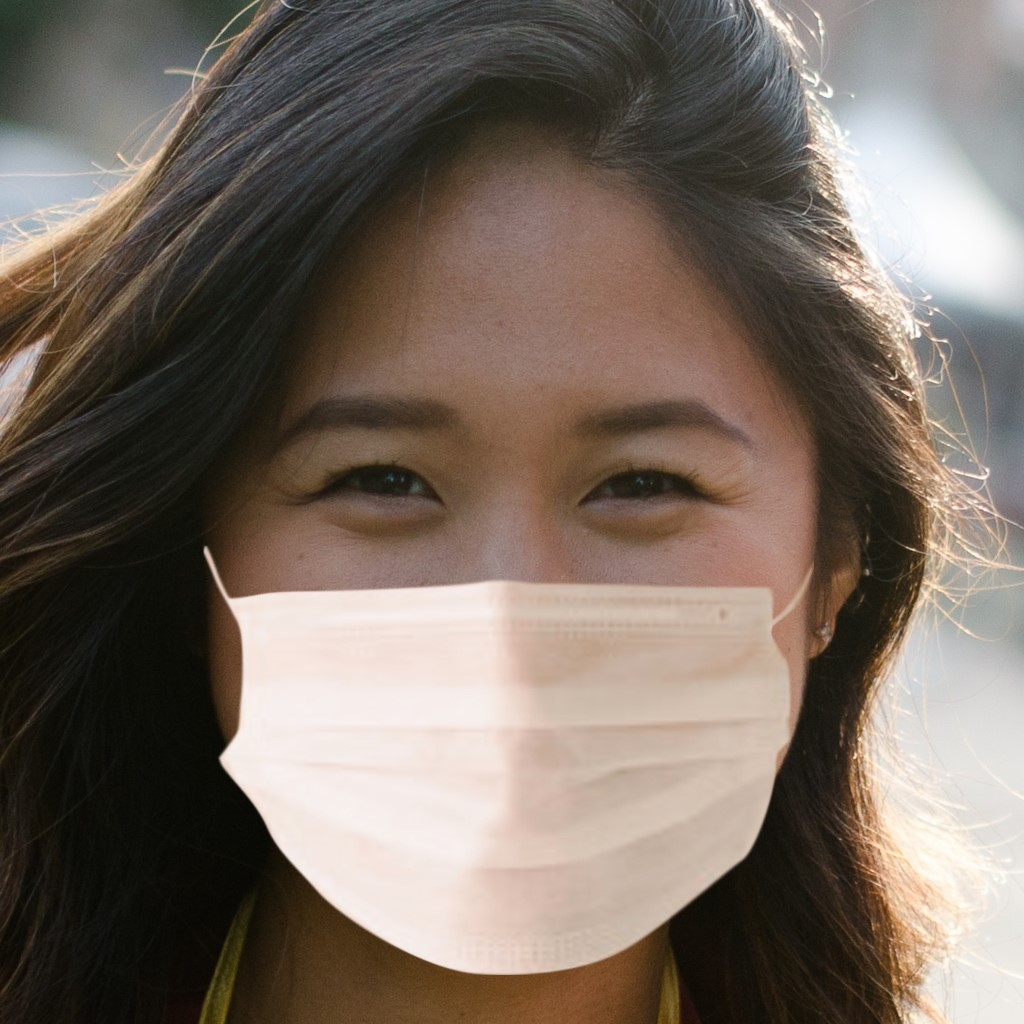con_mascara: (180, 87, 841, 980)
